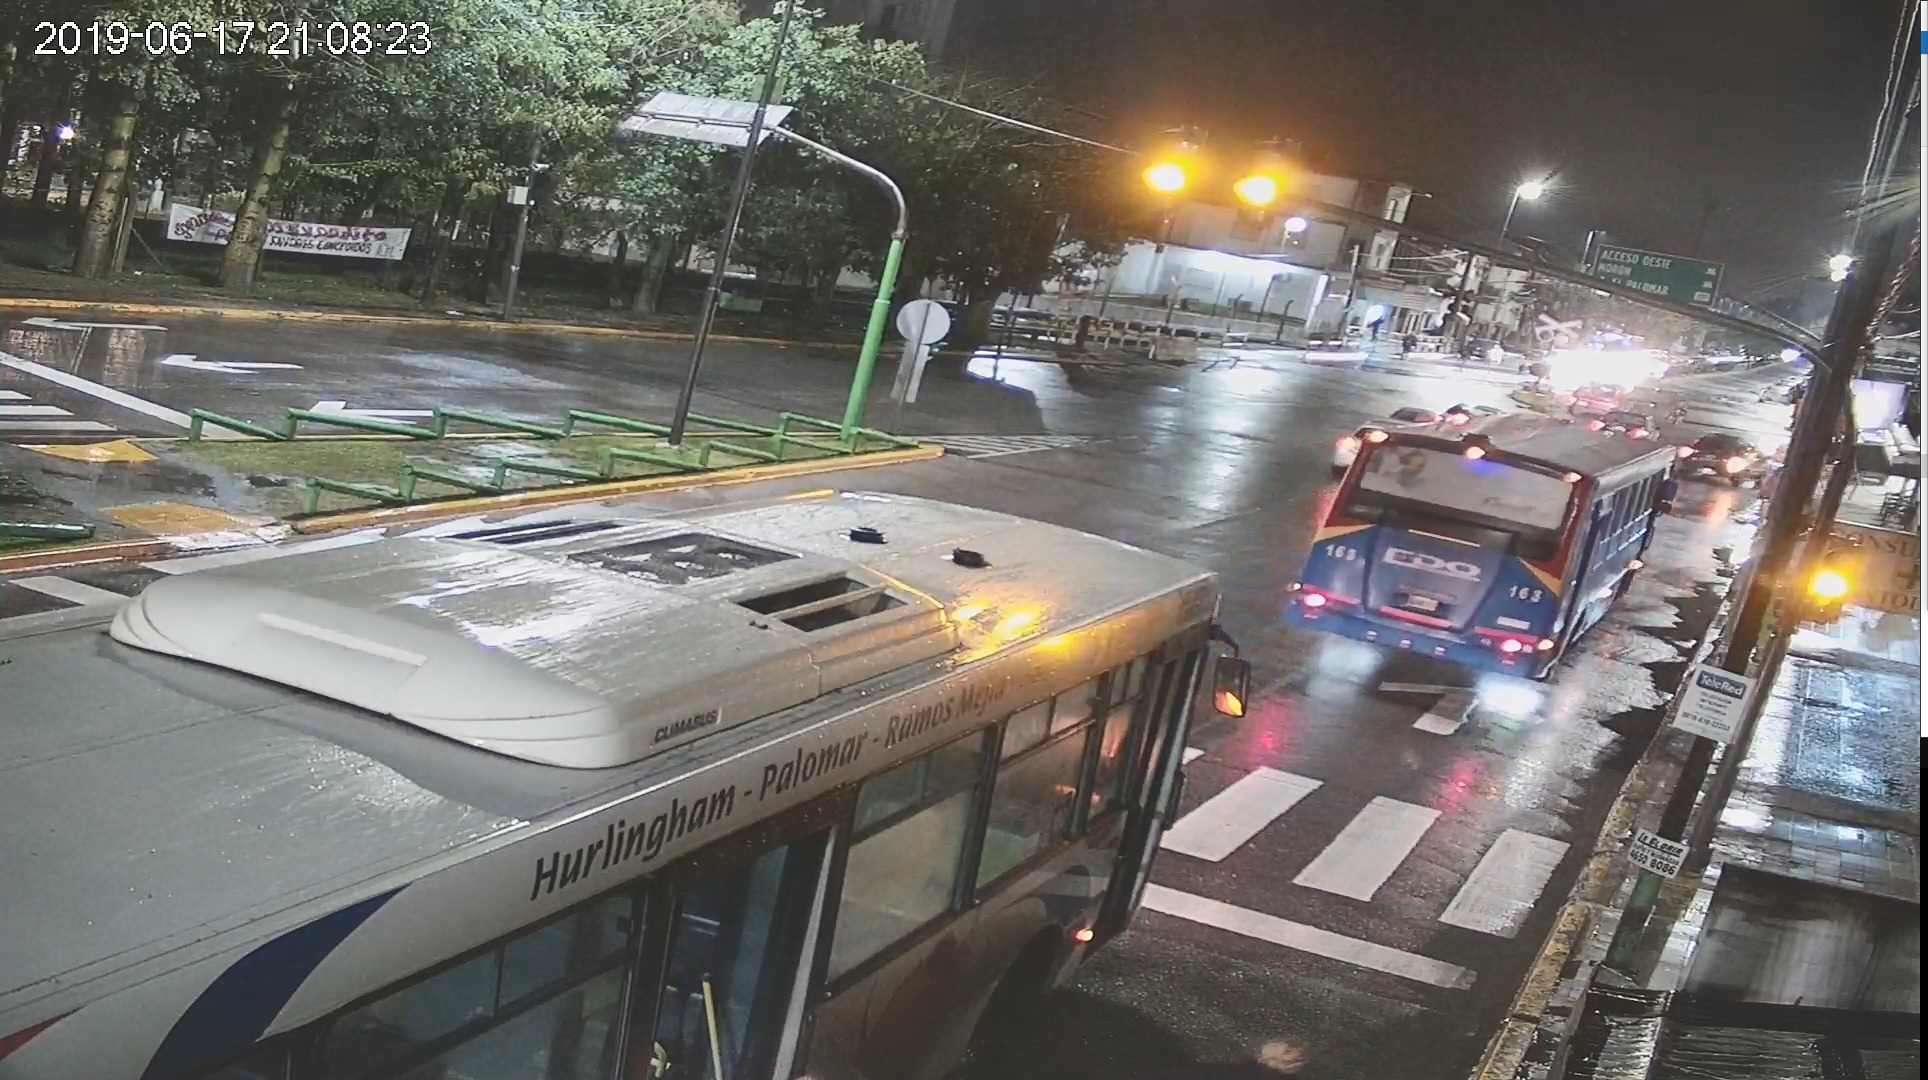bus: (11, 484, 1253, 1080), (1296, 408, 1679, 682)
